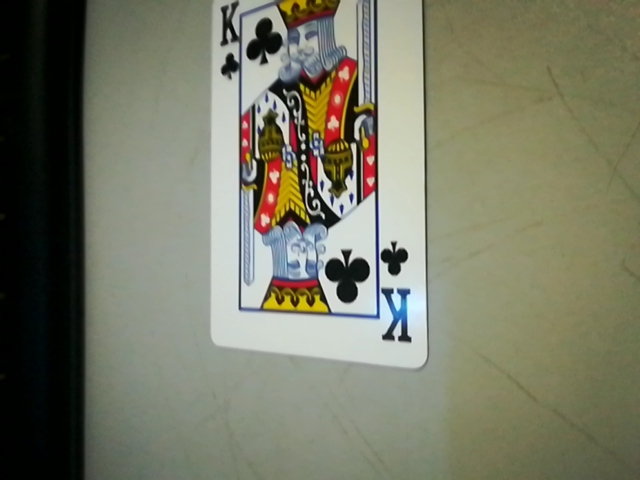mh k: (371, 236, 425, 358)
